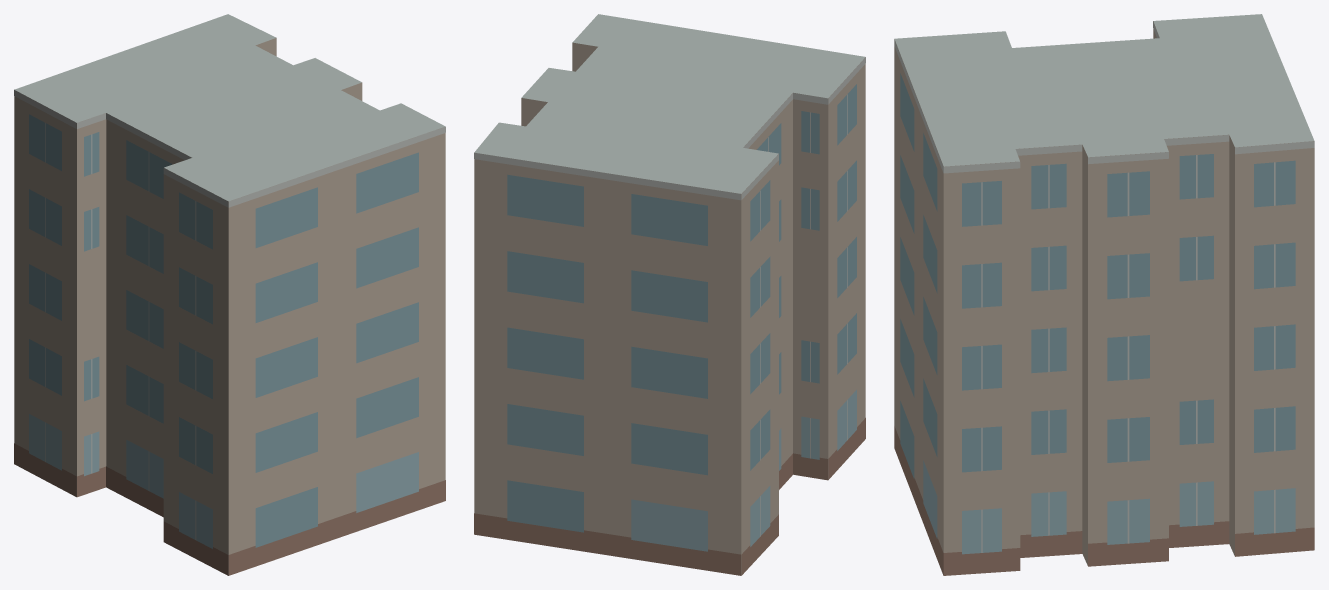
File: survey-upis-32745616.glb
3 views of the same model, side by side, from view 1: azimuth 30°, elevation 25°; view 2: azimuth 150°, elevation 25°; view 3: azimuth 270°, elevation 25° (orthographic). The views are drawn at different scales.
Parts seen in each view (by area): view 1: survey-upis-32745616.tmp; view 2: survey-upis-32745616.tmp; view 3: survey-upis-32745616.tmp.
Part boxes in pixels (box(x1,y1,x2,y2)): survey-upis-32745616.tmp: box(14, 14, 445, 575); survey-upis-32745616.tmp: box(474, 14, 865, 575); survey-upis-32745616.tmp: box(894, 14, 1314, 575).
Size of the model in its own units: 11.52 by 14.4 by 13.41.
